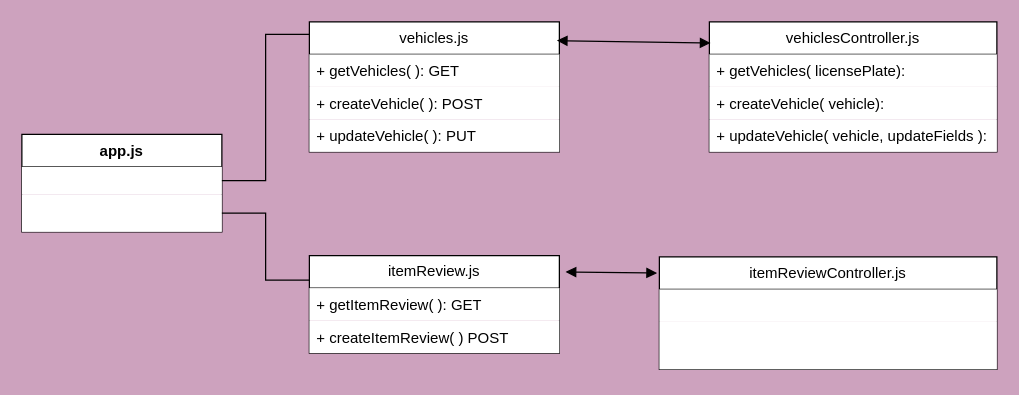
The diagram is 1019 pixels wide and 395 high, and some of its shapes have lost their labels. Here are the shapes that lost their labels. From the top down, the centre of each, then its label:
pixel 121 180: + vehicle( )
pixel 121 212: + itemReview( ):
pixel 827 305: + getItemReview(licensePlate ):
pixel 827 345: + createItemReview( itemReview, licensePlate)
